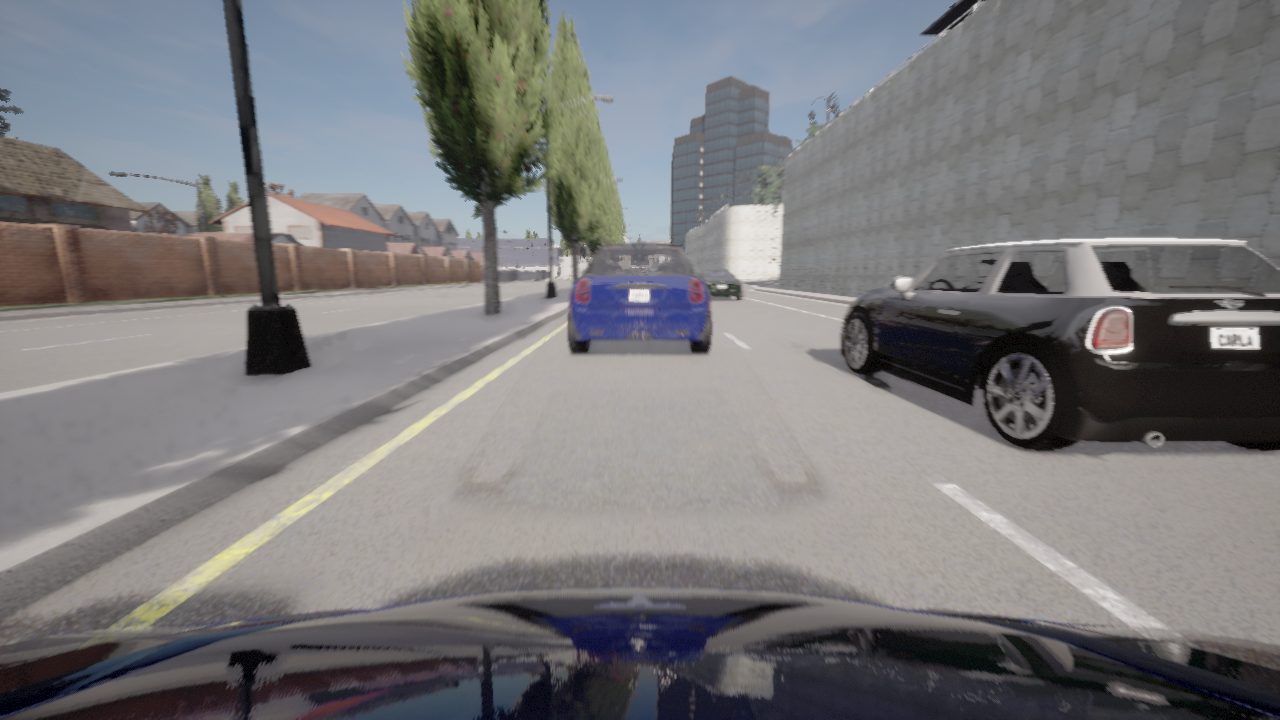cyclist: (0, 588, 1279, 719), (840, 238, 1279, 450), (568, 235, 711, 353), (699, 270, 742, 301)
